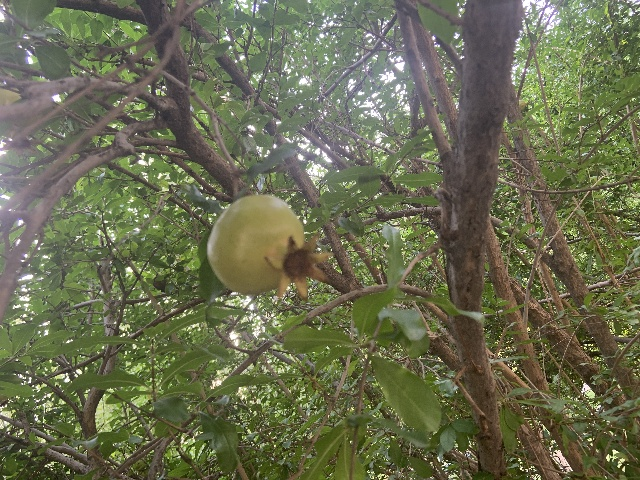mid-growth: (206, 194, 334, 302)
